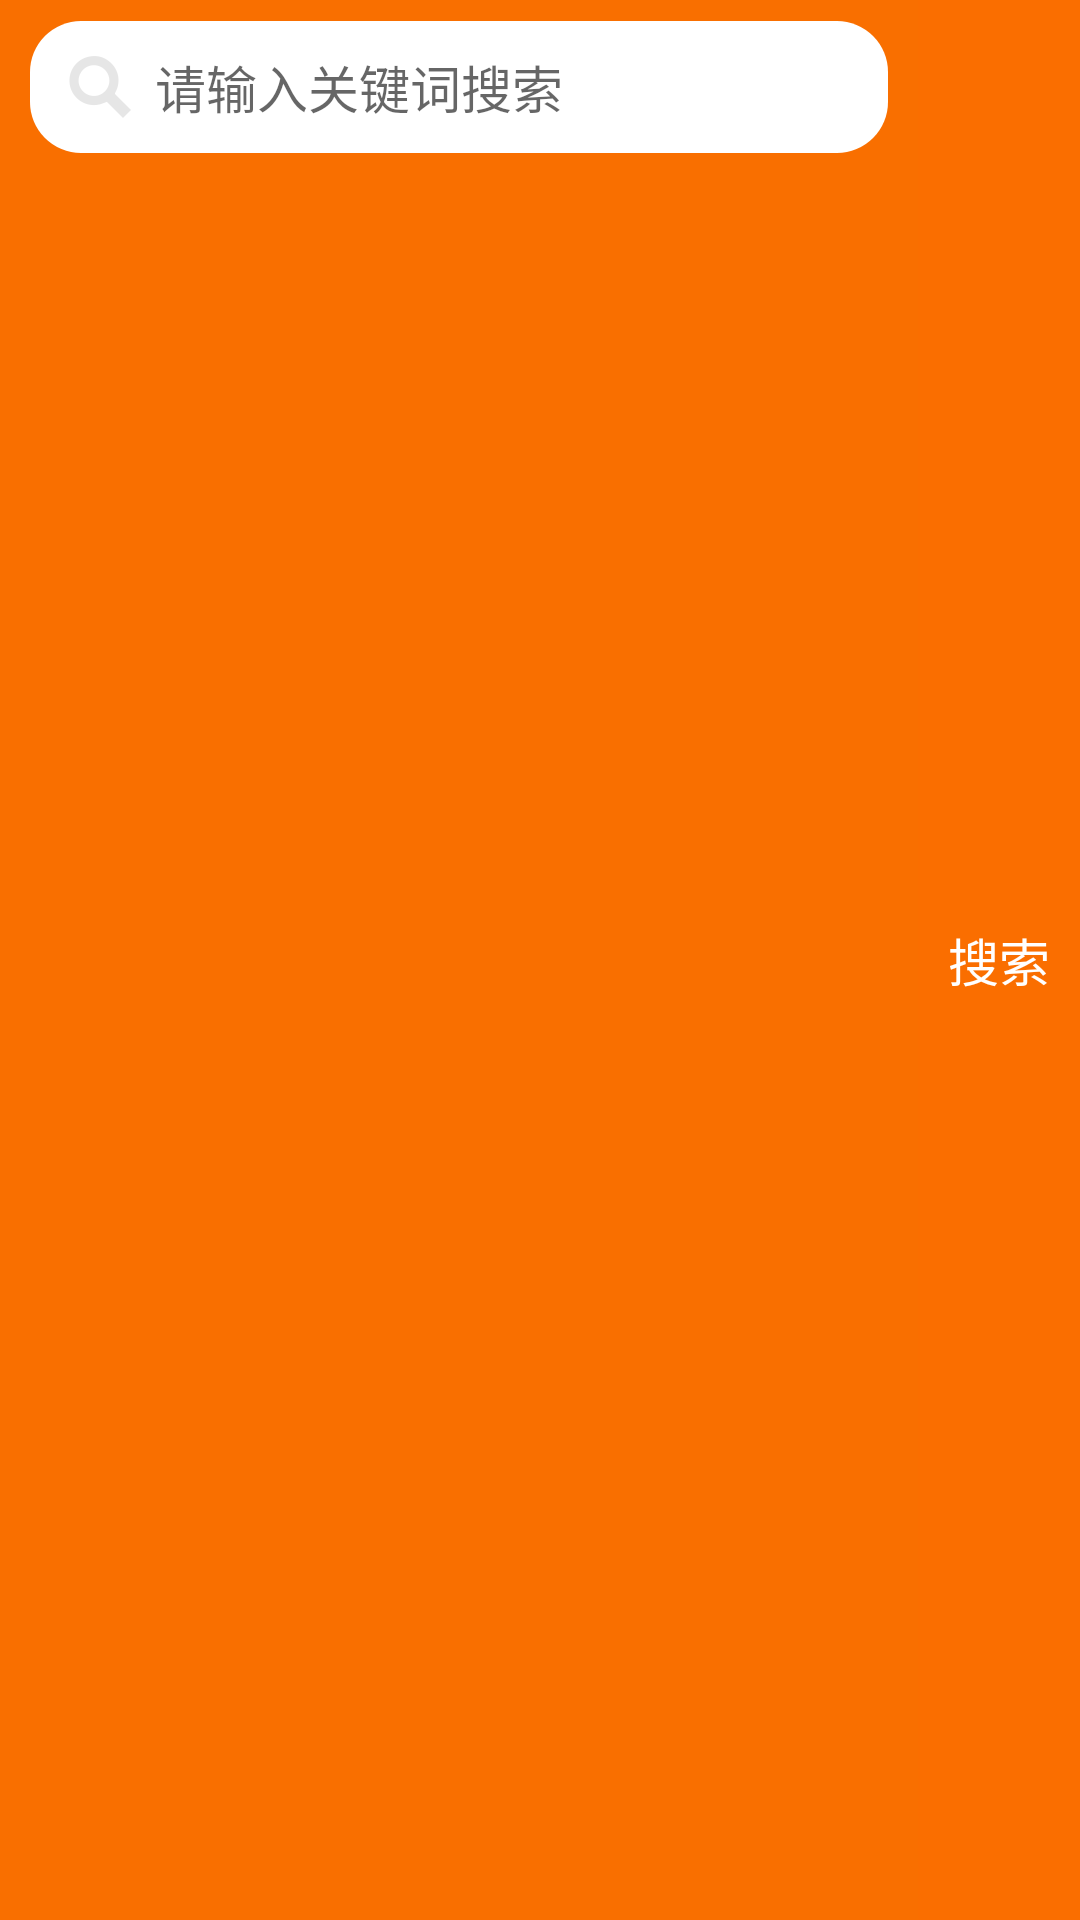

Where icons sit on this 1080px×1920px app screen, as (x1, y1, x2, y2):
search top zoom: (70, 57, 130, 117)
